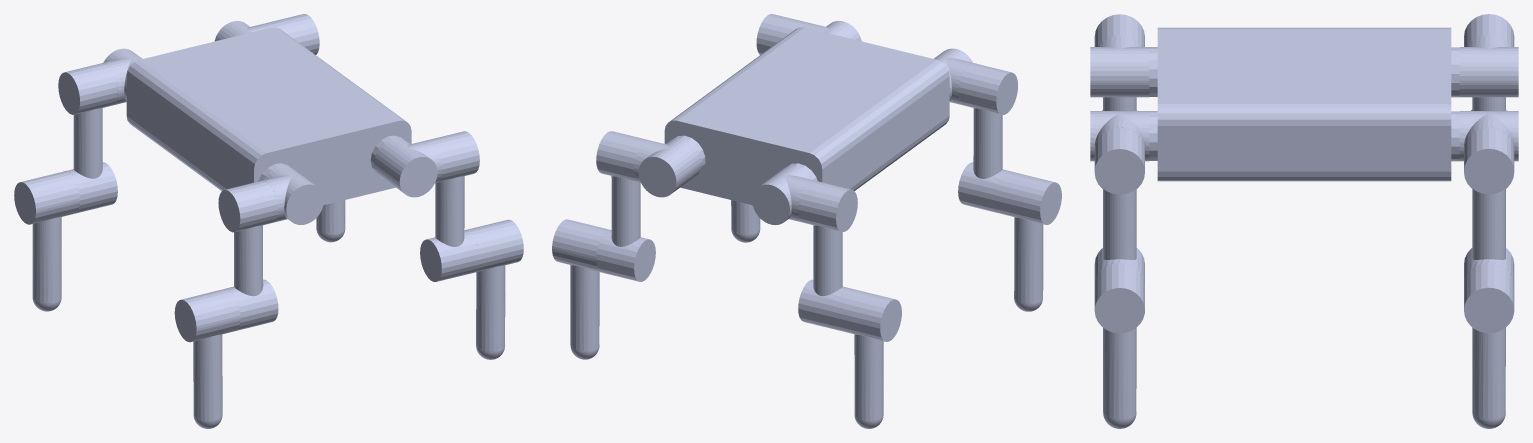
The model's file is doggo_robot.dae.
3 views of the same model, side by side, from view 1: azimuth 30°, elevation 25°; view 2: azimuth 150°, elevation 25°; view 3: azimuth 270°, elevation 25° (orthographic). The views are drawn at different scales.
Parts seen in each view (by area): view 1: base_link, FrontLeftLink2, BackRightLink2, FrontRightLink2, BackRightLink3, FrontRightLink3, FrontLeftLink3, FrontLeftLink1, FrontRightLink1, BackLeftLink2, BackRightLink1, BackLeftLink3 (+1 smaller); view 2: base_link, BackRightLink2, BackLeftLink2, FrontRightLink2, BackRightLink3, FrontRightLink3, BackLeftLink3, BackLeftLink1, BackRightLink1, FrontLeftLink2, FrontRightLink1, FrontLeftLink3 (+1 smaller); view 3: base_link, BackLeftLink3, FrontLeftLink3, FrontLeftLink2, BackLeftLink2, BackRightLink1, FrontRightLink1, FrontLeftLink1, BackLeftLink1, BackRightLink2, FrontRightLink2.
Part boxes in pixels (x1,y1,x2,y2): base_link: [126, 27, 411, 205]; FrontLeftLink2: [420, 131, 479, 281]; BackRightLink2: [58, 63, 117, 213]; FrontRightLink2: [218, 180, 278, 330]; BackRightLink3: [14, 171, 79, 302]; FrontRightLink3: [174, 289, 240, 420]; FrontLeftLink3: [465, 219, 523, 351]; FrontLeftLink1: [374, 138, 441, 197]; FrontRightLink1: [263, 166, 323, 224]; BackLeftLink2: [266, 14, 319, 54]; BackRightLink1: [102, 48, 142, 105]; BackLeftLink3: [316, 200, 345, 233]; base_link: [664, 27, 950, 205]; BackRightLink2: [798, 180, 857, 330]; BackLeftLink2: [596, 131, 655, 281]; FrontRightLink2: [958, 63, 1017, 213]; BackRightLink3: [836, 288, 901, 420]; FrontRightLink3: [996, 171, 1061, 303]; BackLeftLink3: [552, 219, 611, 351]; BackLeftLink1: [634, 138, 701, 197]; BackRightLink1: [752, 166, 813, 225]; FrontLeftLink2: [756, 14, 808, 54]; FrontRightLink1: [934, 48, 973, 105]; FrontLeftLink3: [731, 200, 760, 234]; base_link: [1149, 27, 1459, 181]; BackLeftLink3: [1464, 263, 1514, 419]; FrontLeftLink3: [1094, 263, 1144, 419]; FrontLeftLink2: [1094, 127, 1144, 284]; BackLeftLink2: [1464, 127, 1514, 283]; BackRightLink1: [1459, 35, 1518, 97]; FrontRightLink1: [1090, 35, 1149, 97]; FrontLeftLink1: [1090, 111, 1149, 161]; BackLeftLink1: [1459, 111, 1518, 161]; BackRightLink2: [1464, 14, 1514, 188]; FrontRightLink2: [1094, 14, 1144, 188].
Size of the model in its own units: 0.52 by 0.51 by 0.37.
